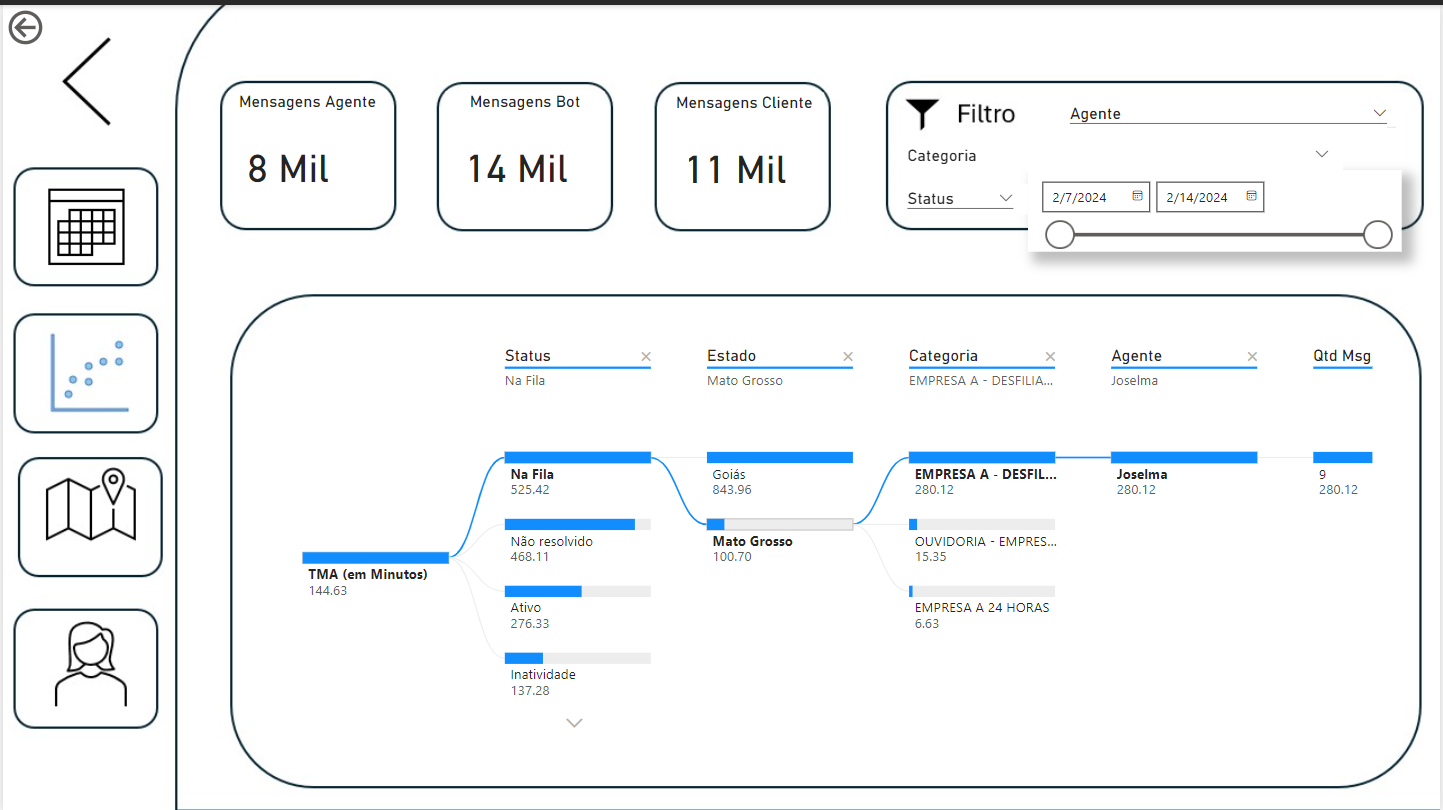

The page's visual inventory and layout, read from the dashboard file:
{"tool":"powerbi","page":{"name":"Performace","canvas":[1280,720],"ordinal":2},"visuals":[{"type":"cardVisual","title":"Mensagens Agente","fields":{"Data":["Sum(Sheet1.Qtd Msg Agente)"]},"box":[200,77.1,141.4,111.4],"z":0},{"type":"cardVisual","title":"Mensagens Bot","fields":{"Data":["Sum(Sheet1.Qtd Msg Bot)"]},"box":[394.3,77.1,141.4,111.4],"z":1000},{"type":"decompositionTreeVisual","fields":{"Analyze":["Sheet1.TMA (em Minutos)"],"ExplainBy":["Sheet1.Status","Sheet1.Estado","Sheet1.Categoria","Sheet1.Agente","Sheet1.Qtd Msg Agente","Sheet1.Qtd Msg Bot","Sheet1.Qtd Msg Cliente"]},"box":[237.1,287.1,987.1,388.6],"z":2000},{"type":"slicer","fields":{"Values":["Sheet1.Criado em"]},"box":[912.8,146.7,332.5,72.7],"z":3000},{"type":"shape","box":[18.2,273.9,117.4,104.8],"z":4000},{"type":"shape","box":[16.8,403.8,118.8,99.2],"z":5000},{"type":"shape","box":[16.8,542.2,118.8,100.6],"z":6000},{"type":"shape","box":[16.8,146.7,118.8,104.8],"z":7000},{"type":"shape","box":[0,8.3,135,118.3],"z":8000},{"type":"cardVisual","title":"Mensagens Cliente","fields":{"Data":["Sum(Sheet1.Qtd Msg Cliente)"]},"box":[588.9,77.4,142.4,112],"z":9000},{"type":"slicer","fields":{"Values":["Sheet1.Agente"]},"box":[937.8,83.9,308,30.8],"z":10000},{"type":"slicer","fields":{"Values":["Sheet1.Status"]},"box":[792.9,158.9,119.8,26.9],"z":11000},{"type":"slicer","fields":{"Values":["Sheet1.Categoria"]},"box":[792.9,119.8,401.2,26.9],"z":12000},{"type":"actionButton","box":[0,0,100,40],"z":13000}]}

Visuals, with their boxes on the page's 1280x720 design canvas (x1, y1, x2, y2). These are canvas units, not pixel positions in the 1443x810 screenshot, which may show the page scaled, cropped or inside an application window:
"Mensagens Agente" cardVisual: BBox(200, 77, 341, 188)
"Mensagens Bot" cardVisual: BBox(394, 77, 536, 188)
decompositionTreeVisual - Sheet1.TMA (em Minutos) x Sheet1.Status: BBox(237, 287, 1224, 676)
slicer - Sheet1.Criado em: BBox(913, 147, 1245, 219)
shape: BBox(18, 274, 136, 379)
shape: BBox(17, 404, 136, 503)
shape: BBox(17, 542, 136, 643)
shape: BBox(17, 147, 136, 252)
shape: BBox(0, 8, 135, 127)
"Mensagens Cliente" cardVisual: BBox(589, 77, 731, 189)
slicer - Sheet1.Agente: BBox(938, 84, 1246, 115)
slicer - Sheet1.Status: BBox(793, 159, 913, 186)
slicer - Sheet1.Categoria: BBox(793, 120, 1194, 147)
actionButton: BBox(0, 0, 100, 40)
